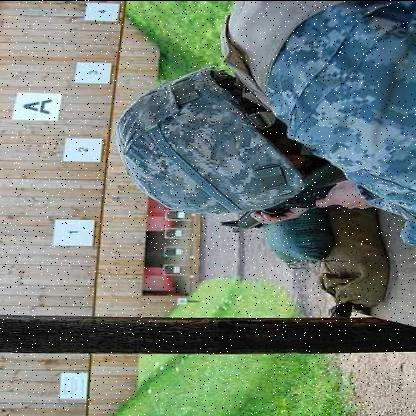rifle: (219, 173, 380, 245)
